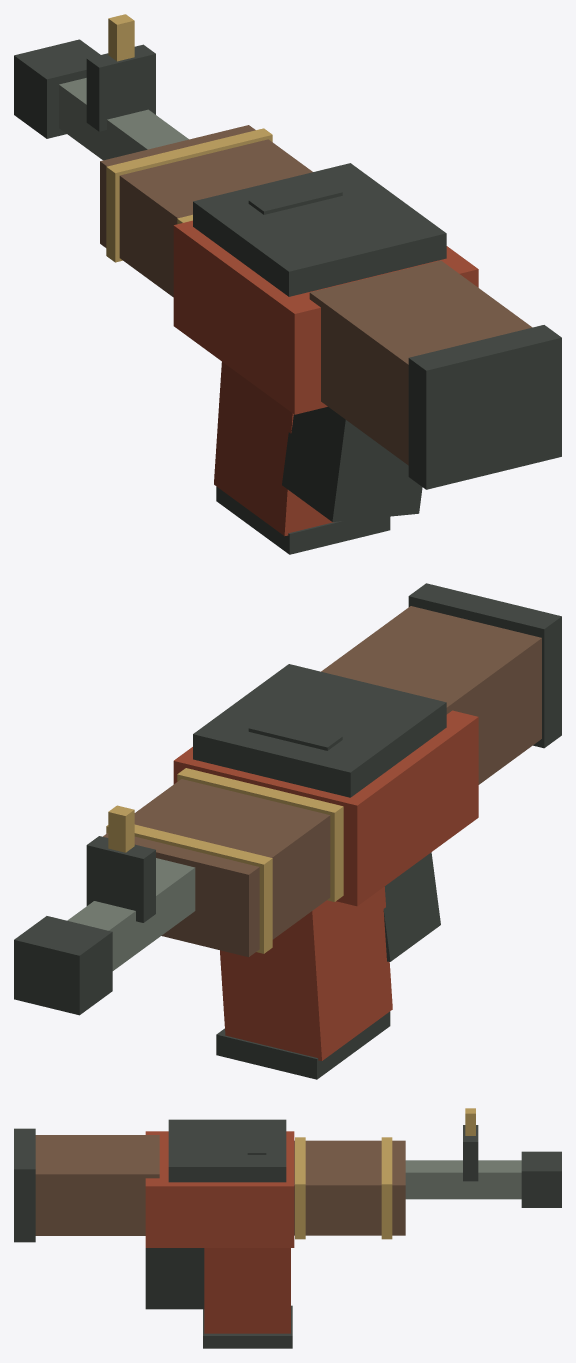
File: carbine-ak47.glb
3 views of the same model, one above another, from view 1: azimuth 30°, elevation 25°; view 2: azimuth 150°, elevation 25°; view 3: azimuth 270°, elevation 25° (orthographic). The views are drawn at different scales.
Parts seen in each view (by area): view 1: stock, stock-butt, receiver-cover, receiver, handguard, grip, magazine, muzzle, barrel, front-sight, handguard-band-b, magazine-base (+2 smaller); view 2: handguard, magazine, receiver-cover, stock, receiver, muzzle, stock-butt, barrel, front-sight, grip, magazine-base, handguard-band-a (+3 smaller); view 3: stock, receiver, handguard, magazine, receiver-cover, barrel, grip, stock-butt, muzzle, magazine-base, handguard-band-b, handguard-band-a (+2 smaller).
Part boxes in pixels (box(x1,y1,x2,y2)): stock: box(309, 260, 532, 465); stock-butt: box(408, 325, 561, 489); receiver-cover: box(193, 163, 446, 296); receiver: box(173, 220, 478, 414); handguard: box(100, 125, 312, 297); grip: box(282, 407, 422, 521); magazine: box(214, 362, 333, 536); muzzle: box(14, 39, 100, 138); barrel: box(59, 78, 188, 160); front-sight: box(86, 44, 155, 131); handguard-band-b: box(106, 128, 272, 262); magazine-base: box(216, 486, 390, 554); handguard: box(103, 779, 330, 957); magazine: box(220, 886, 392, 1060); receiver-cover: box(193, 664, 446, 797); stock: box(321, 606, 541, 784); receiver: box(173, 710, 478, 906); muzzle: box(14, 916, 112, 1015); stock-butt: box(408, 583, 561, 748); barrel: box(67, 858, 195, 970); front-sight: box(86, 836, 155, 922); grip: box(383, 852, 440, 961); magazine-base: box(216, 1011, 390, 1079); handguard-band-a: box(177, 768, 343, 901); stock: box(35, 1135, 159, 1235); receiver: box(145, 1131, 294, 1247); handguard: box(294, 1140, 405, 1235); magazine: box(204, 1248, 290, 1333); receiver-cover: box(168, 1119, 286, 1182); barrel: box(405, 1160, 521, 1199); grip: box(145, 1248, 204, 1309); stock-butt: box(14, 1128, 35, 1242); muzzle: box(521, 1151, 561, 1207); magazine-base: box(203, 1305, 292, 1348); handguard-band-b: box(381, 1137, 392, 1239); handguard-band-a: box(295, 1137, 305, 1239).
Bounding box in the file's own units: 0.42 × 0.7925 × 1.77.
